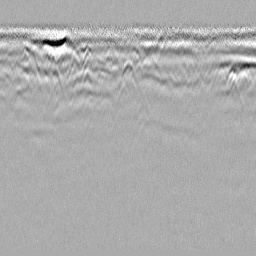cavity: (120, 60, 135, 81)
